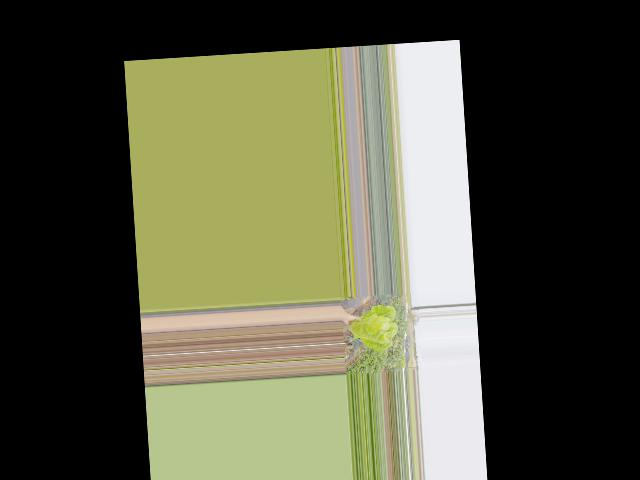lettuce: (344, 301, 399, 354)
